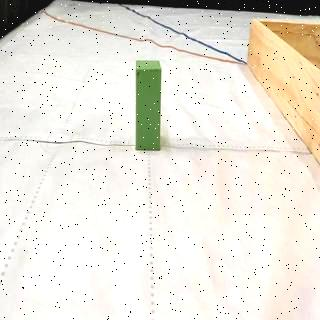greenbox: (136, 59, 163, 151)
